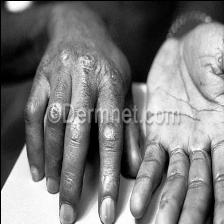Unclassified: (72, 52, 94, 68)
